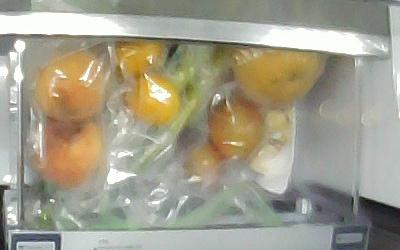peach_vinyl: (36, 50, 108, 121), (34, 117, 100, 187)
pear_vinyl: (233, 46, 323, 103)
tangerine_vinyl: (125, 74, 181, 122), (116, 39, 161, 73)
tomato_vinyl: (209, 94, 265, 159)
